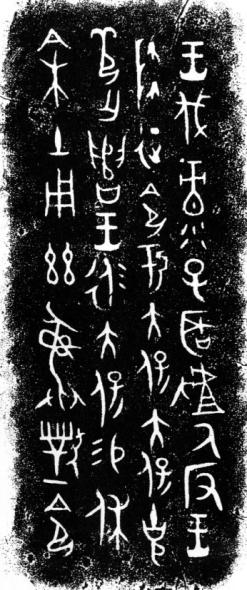char: (27, 307, 95, 424), (34, 496, 96, 579), (118, 17, 170, 109), (164, 148, 226, 211), (21, 425, 85, 484), (19, 242, 87, 295), (178, 366, 247, 415), (84, 126, 145, 179), (166, 28, 227, 80), (80, 245, 132, 306), (21, 120, 85, 167), (22, 175, 88, 218), (174, 513, 225, 568), (86, 20, 131, 82), (184, 459, 238, 509), (168, 313, 225, 357), (93, 308, 145, 356), (125, 452, 179, 497), (89, 486, 122, 559), (128, 354, 178, 402), (89, 366, 131, 423), (172, 86, 217, 139), (175, 261, 223, 309), (130, 124, 173, 176), (135, 243, 179, 292), (181, 420, 237, 456), (129, 504, 163, 563), (172, 219, 223, 258), (130, 296, 166, 345), (81, 211, 129, 246), (22, 23, 89, 48), (140, 409, 174, 458), (88, 433, 130, 472), (40, 59, 74, 107), (128, 204, 172, 239), (89, 93, 134, 120), (90, 183, 130, 207), (136, 180, 180, 200)
